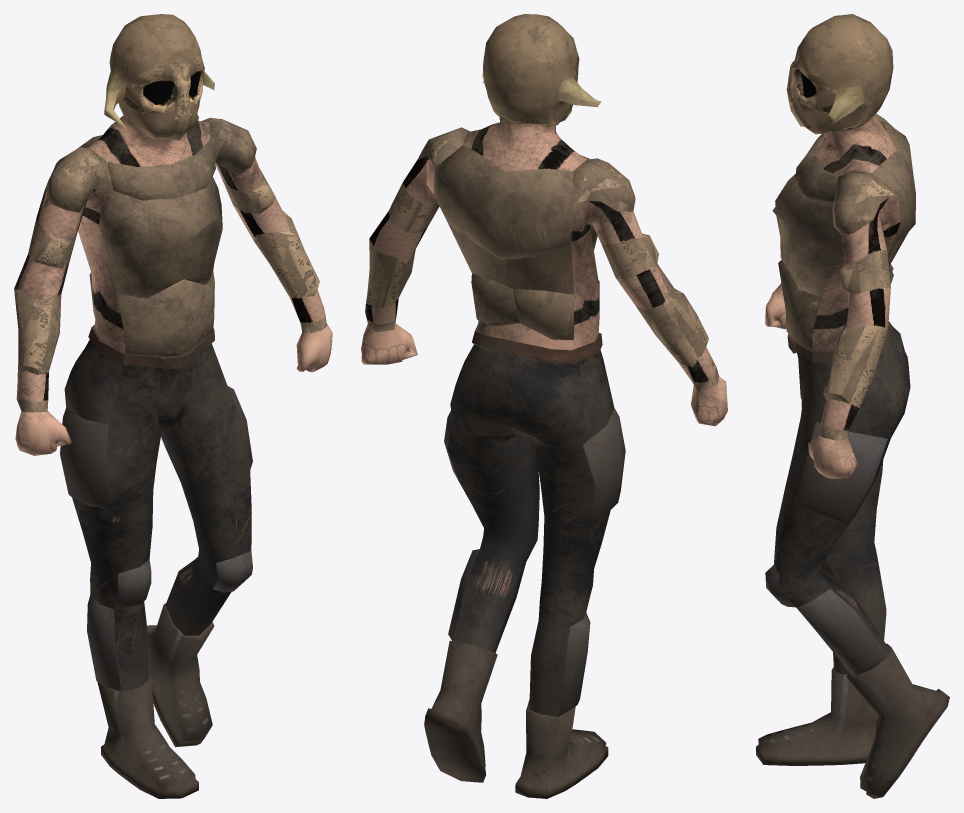
Rendered from Anim_andar_npc1.0029.obj.
The picture shows the model from 3 angles, left to right: view 1: azimuth 30°, elevation 25°; view 2: azimuth 150°, elevation 25°; view 3: azimuth 270°, elevation 25°; orthographic projection.
Parts seen in each view (by area): view 1: Anim_andar_npc1; view 2: Anim_andar_npc1; view 3: Anim_andar_npc1.
Part boxes in pixels (left/top/right/bottom): Anim_andar_npc1: left=14, top=14, right=332, bottom=798; Anim_andar_npc1: left=361, top=14, right=727, bottom=798; Anim_andar_npc1: left=756, top=14, right=949, bottom=798.
Bounding box in the file's own units: 4.56 × 9.75 × 2.28.
